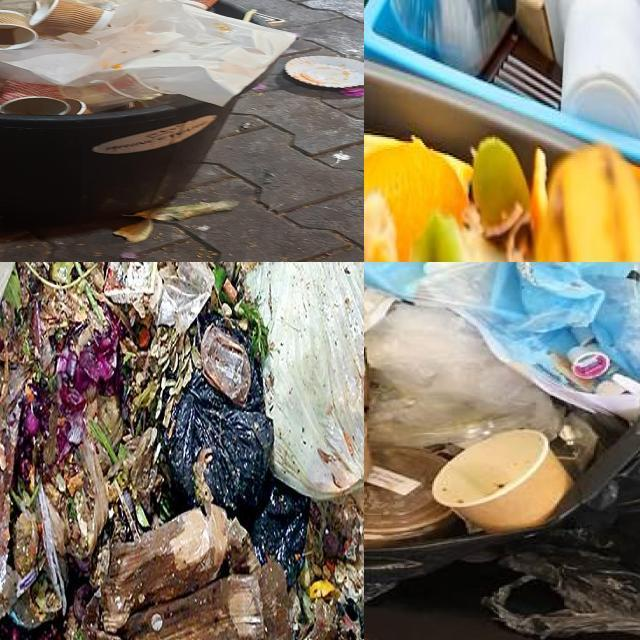Disposable: (200, 324, 251, 405), (158, 262, 214, 333), (60, 72, 163, 110), (104, 262, 158, 303)
Garbage: (0, 262, 364, 640), (364, 262, 640, 547), (364, 0, 640, 262)
Plastic: (364, 262, 640, 419), (365, 303, 564, 447)
Plastic_Bag: (241, 262, 364, 499), (165, 362, 273, 512), (106, 0, 232, 52), (252, 482, 309, 586)
Plastic_Container: (544, 0, 640, 136)
Plastic_Straw: (243, 9, 258, 21)
Plastic_bottle: (391, 0, 499, 71)
